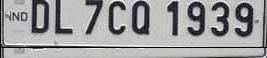character: (210, 1, 230, 37), (186, 1, 206, 36), (53, 1, 74, 34), (107, 1, 128, 34), (30, 1, 50, 35), (234, 2, 253, 37), (131, 1, 151, 34), (84, 1, 103, 34), (166, 1, 179, 37)
